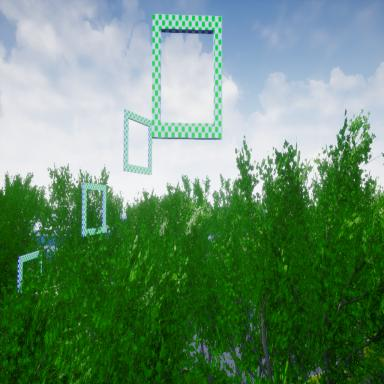gate: (151, 13, 223, 140), (124, 107, 152, 176), (82, 181, 106, 237)
